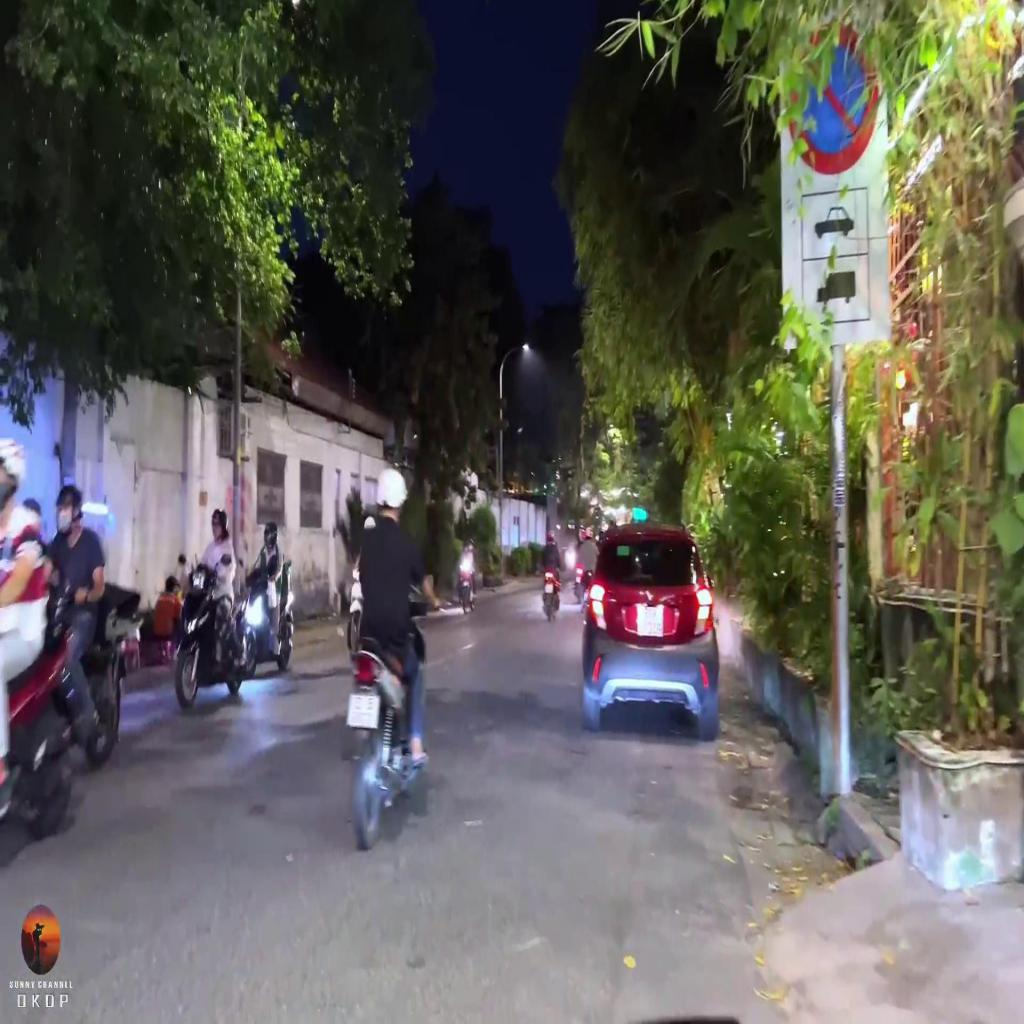cam_do_xe: (787, 20, 879, 173)
khac: (800, 188, 868, 260), (803, 255, 869, 327)
